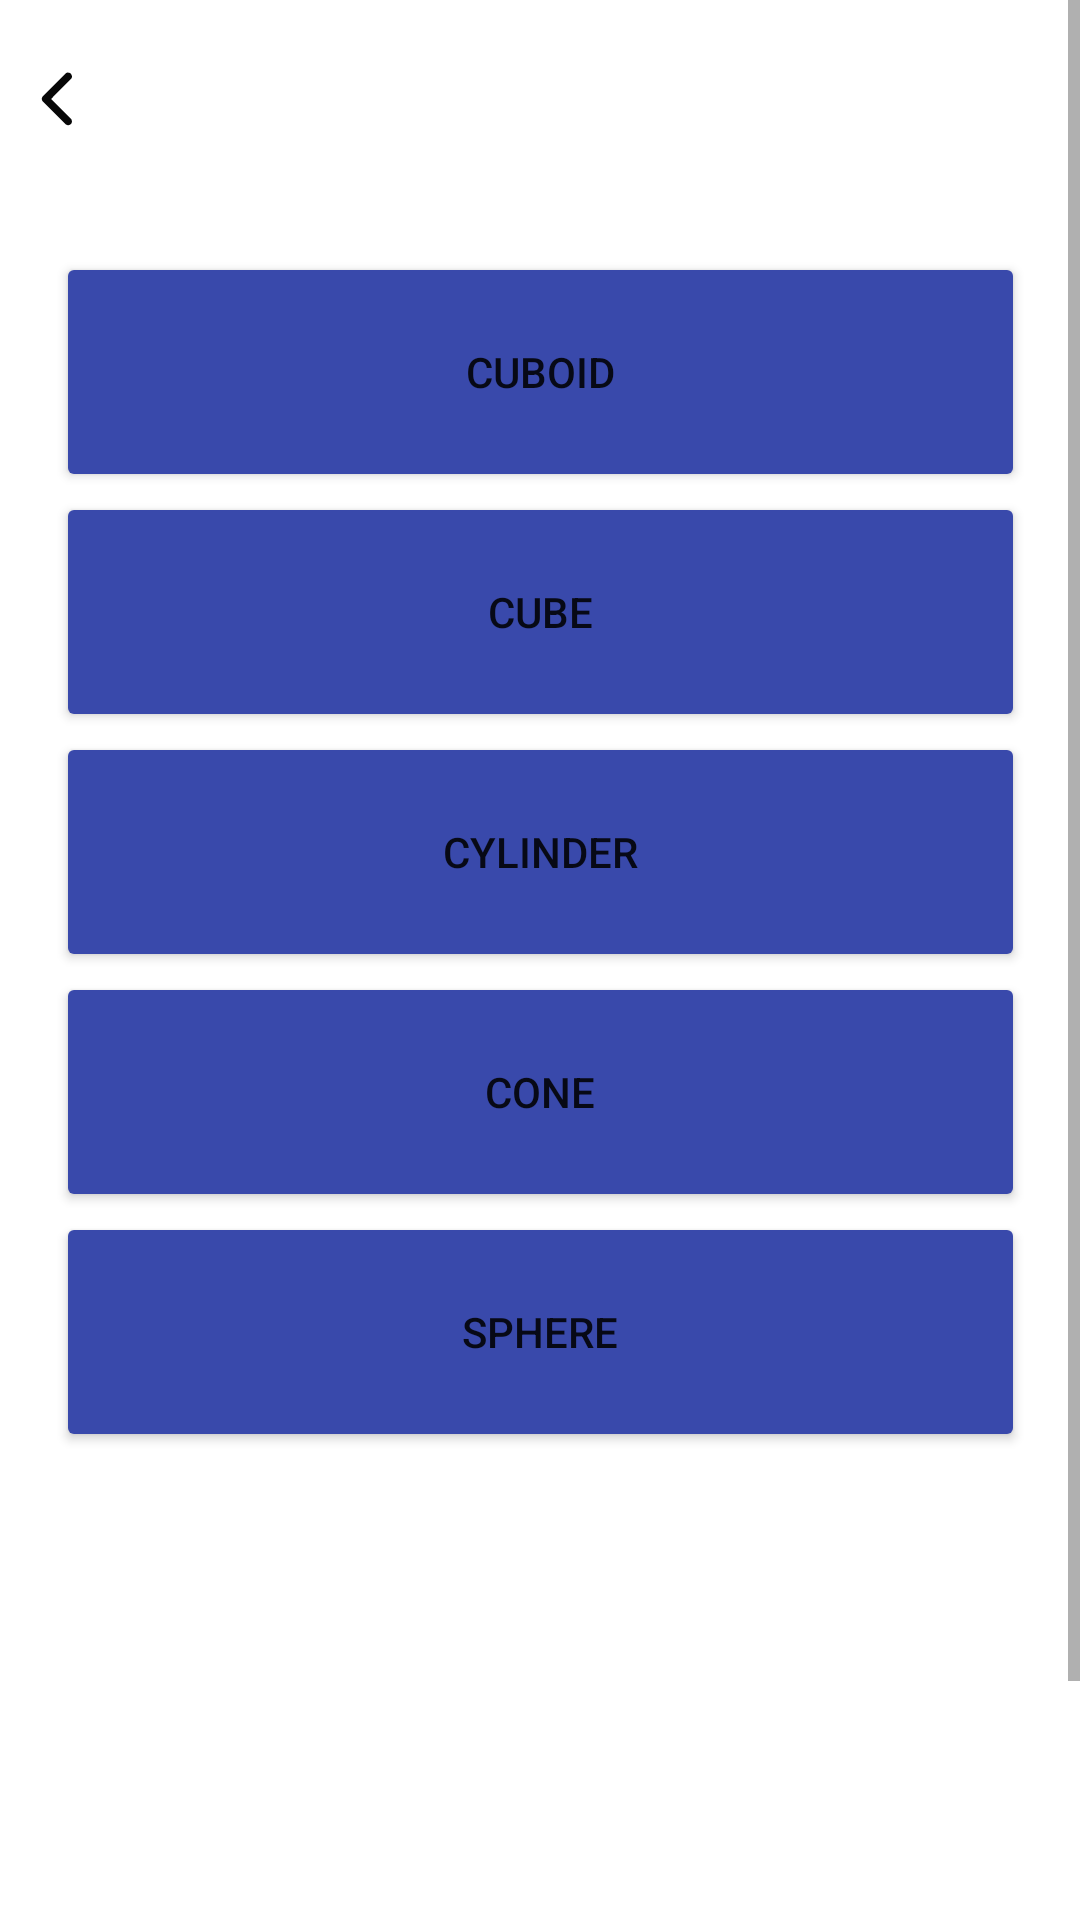

Where icons sit on this 1080×1920 app screen, as (x1, y1, x2, y2):
back: (41, 72, 72, 126)
